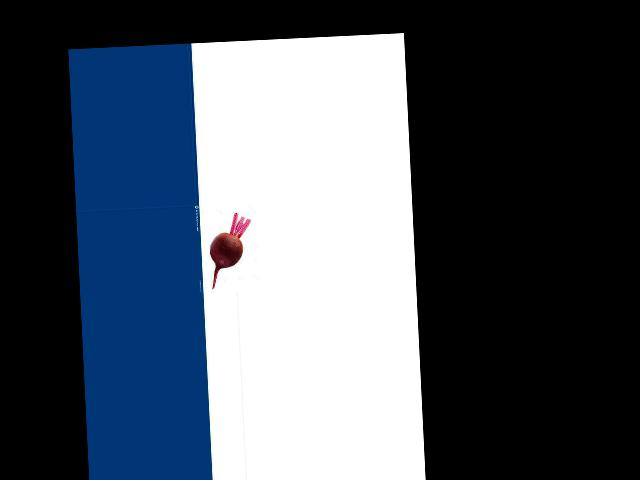beet: (208, 212, 253, 288)
